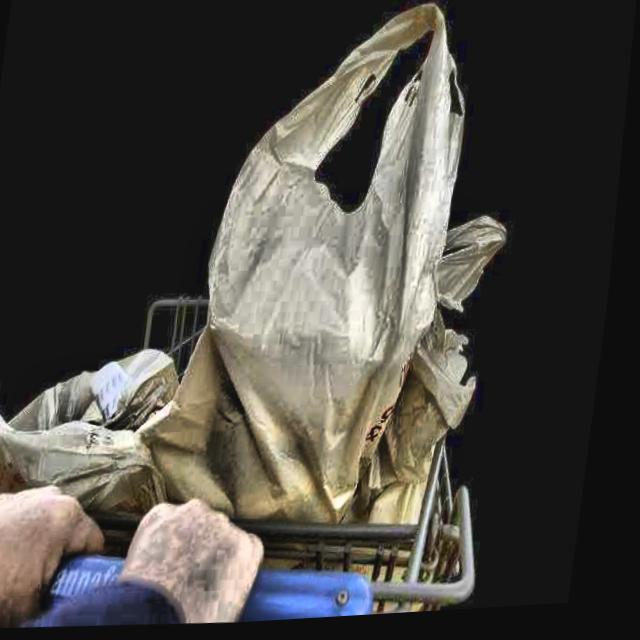Plastic: (177, 0, 505, 544)
